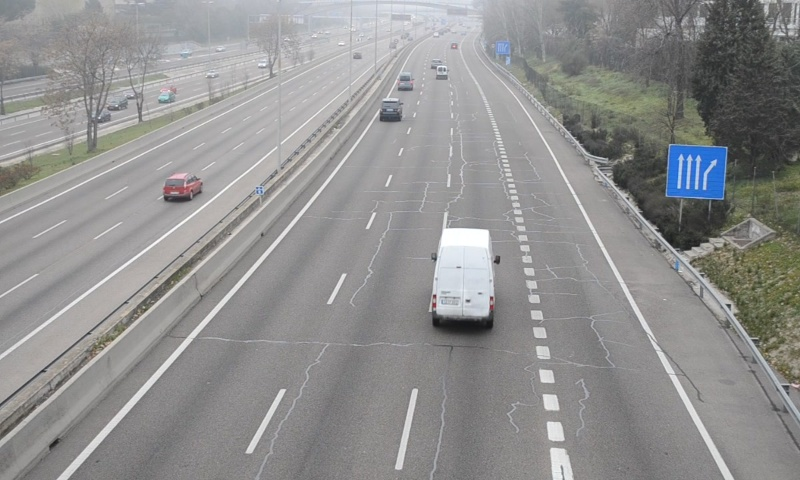car: (379, 98, 402, 122)
van: (431, 227, 496, 328), (396, 72, 414, 89)
